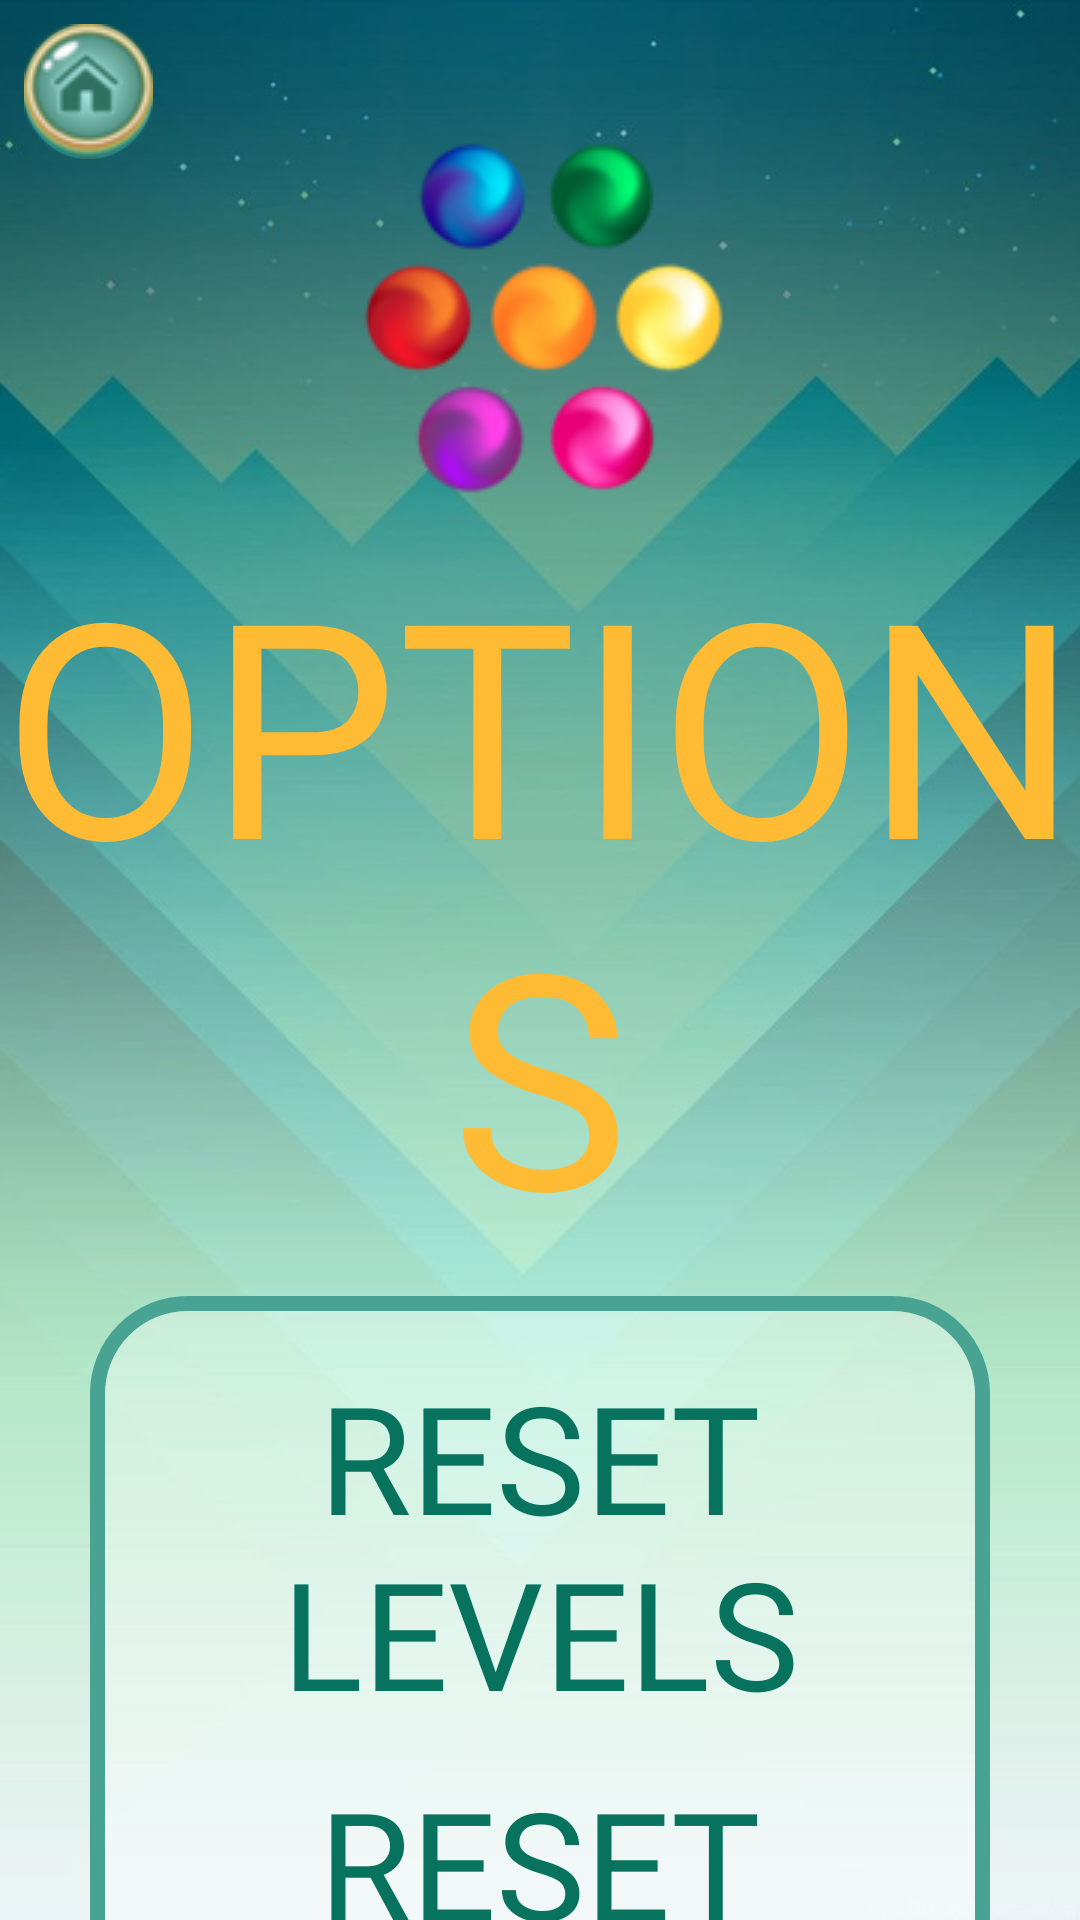

Icon click points for this 1080x1920 phone screenshot, format point (x, y):
home: point (88, 91)
